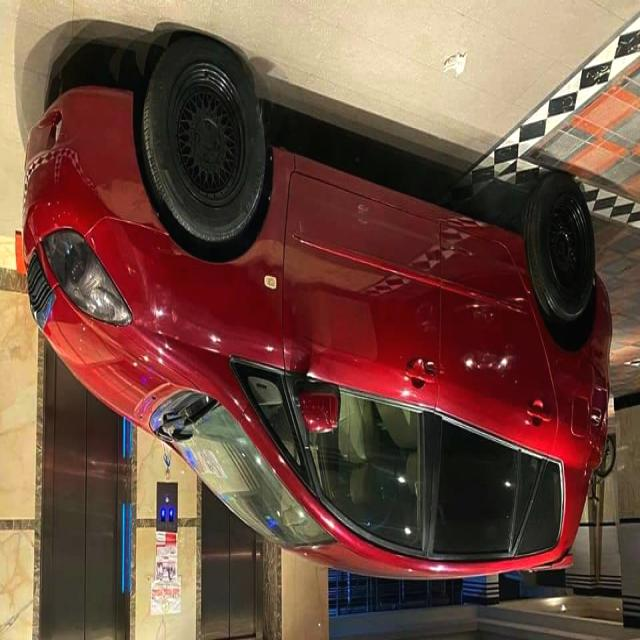red: (25, 71, 612, 562)
